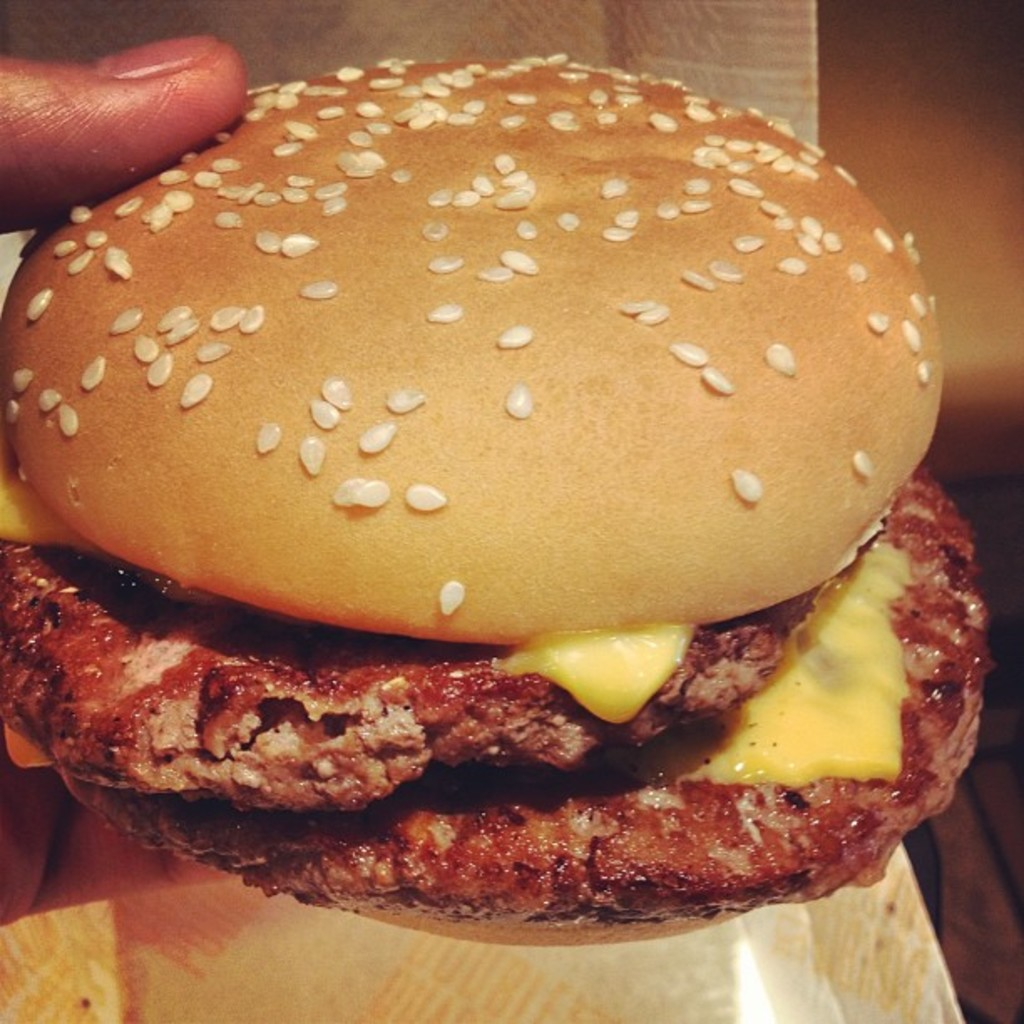Hamburger: (0, 53, 990, 928)
